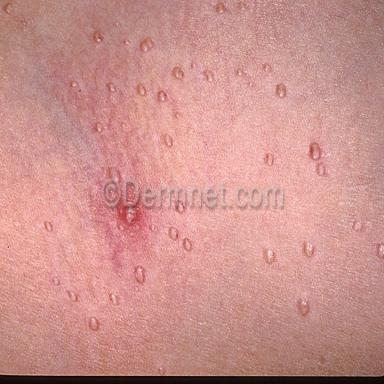Molluscum-Contagiosum: (297, 298, 310, 317), (309, 142, 321, 161), (140, 38, 154, 52), (135, 265, 145, 284), (173, 66, 185, 80), (89, 317, 100, 332), (303, 242, 314, 257), (276, 83, 287, 98), (352, 220, 365, 232), (265, 248, 275, 263), (163, 133, 173, 148), (215, 2, 227, 14), (264, 153, 275, 166), (316, 163, 326, 177), (169, 227, 179, 240), (157, 90, 167, 103), (204, 69, 214, 82), (183, 238, 192, 252), (67, 291, 78, 302), (109, 293, 119, 305), (93, 31, 103, 43), (137, 83, 146, 96), (377, 243, 384, 259), (43, 221, 53, 232), (95, 122, 103, 134), (263, 63, 272, 73), (235, 67, 244, 76), (108, 82, 115, 92), (53, 277, 60, 286), (247, 81, 254, 89), (123, 39, 130, 46), (175, 112, 181, 120), (71, 81, 77, 88), (191, 62, 196, 68)
